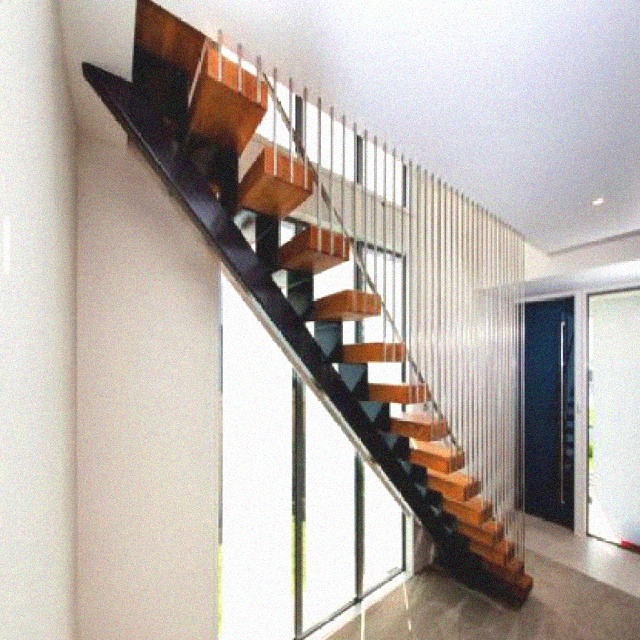stair: (182, 68, 548, 608)
